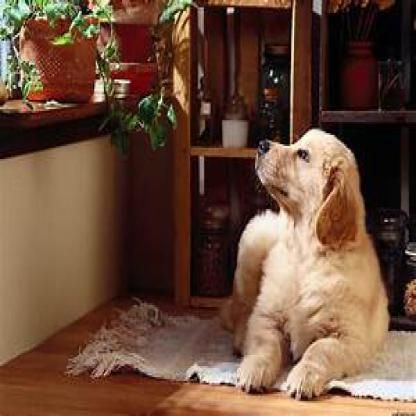dog: (219, 128, 390, 394)
